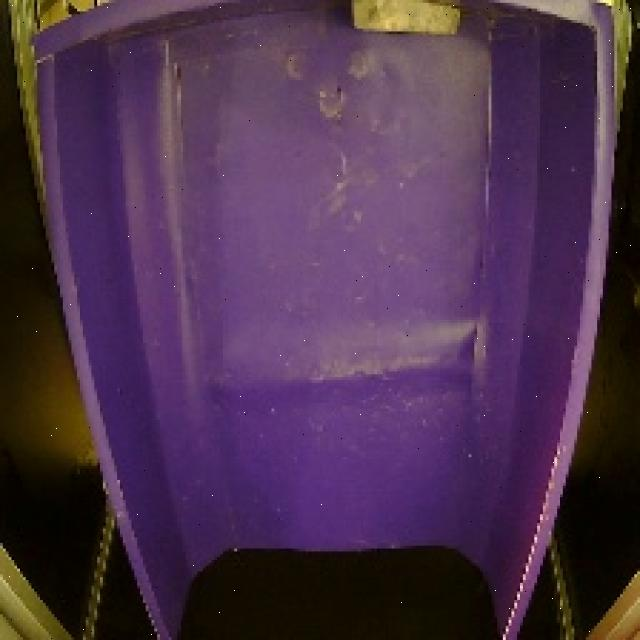china: (328, 0, 477, 50)
